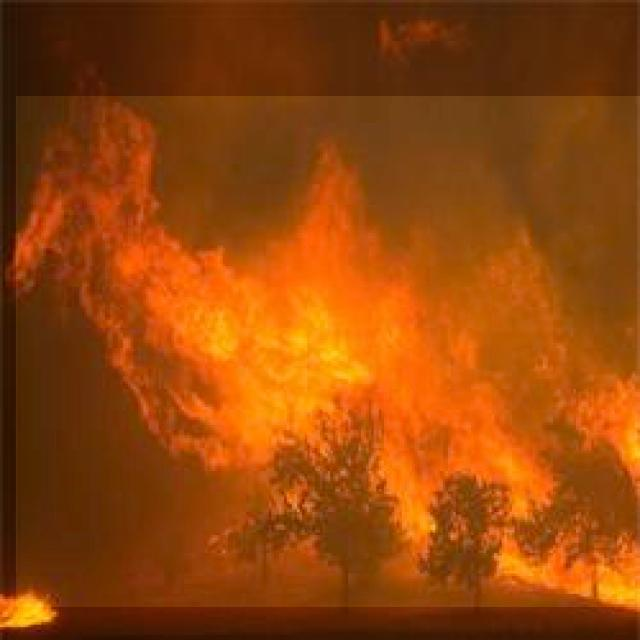Fire: (16, 96, 640, 607)
